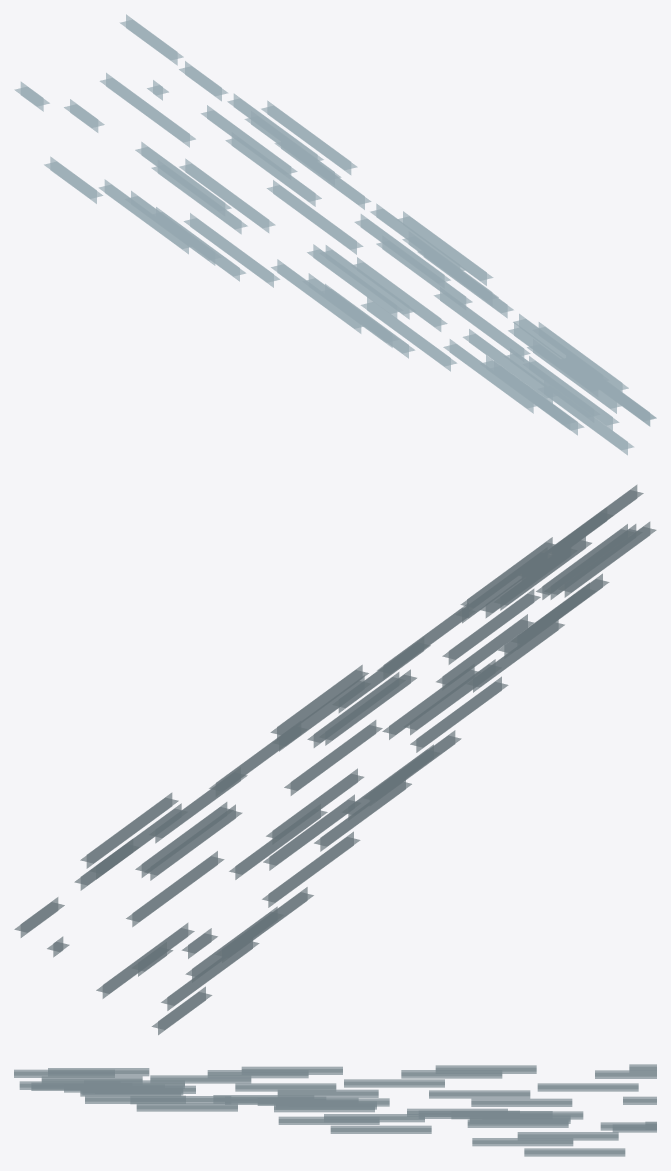
Rendered from wp_water_345.obj.
The picture shows the model from 3 angles, top to bottom: view 1: azimuth 30°, elevation 25°; view 2: azimuth 150°, elevation 25°; view 3: azimuth 270°, elevation 25°; orthographic projection. The views are drawn at different scales.
Bounding box in the file's own units: 0.3071 × 0.2293 × 1.53.
1 material, 1 textured.
